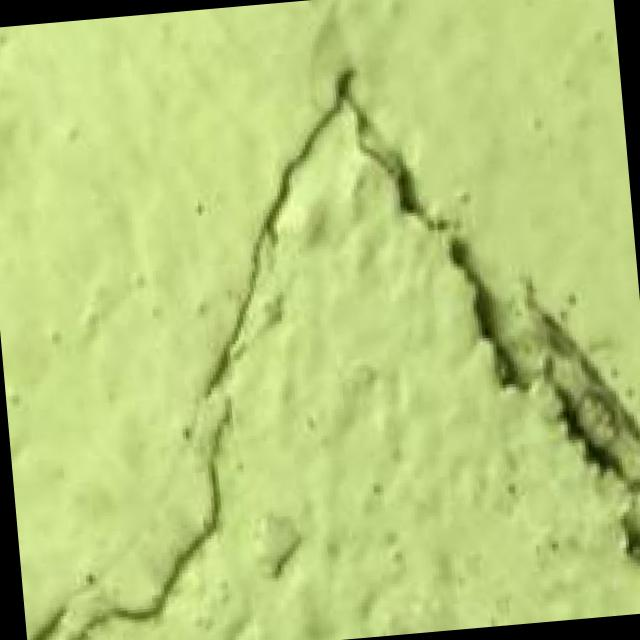crack: (312, 27, 640, 634)
